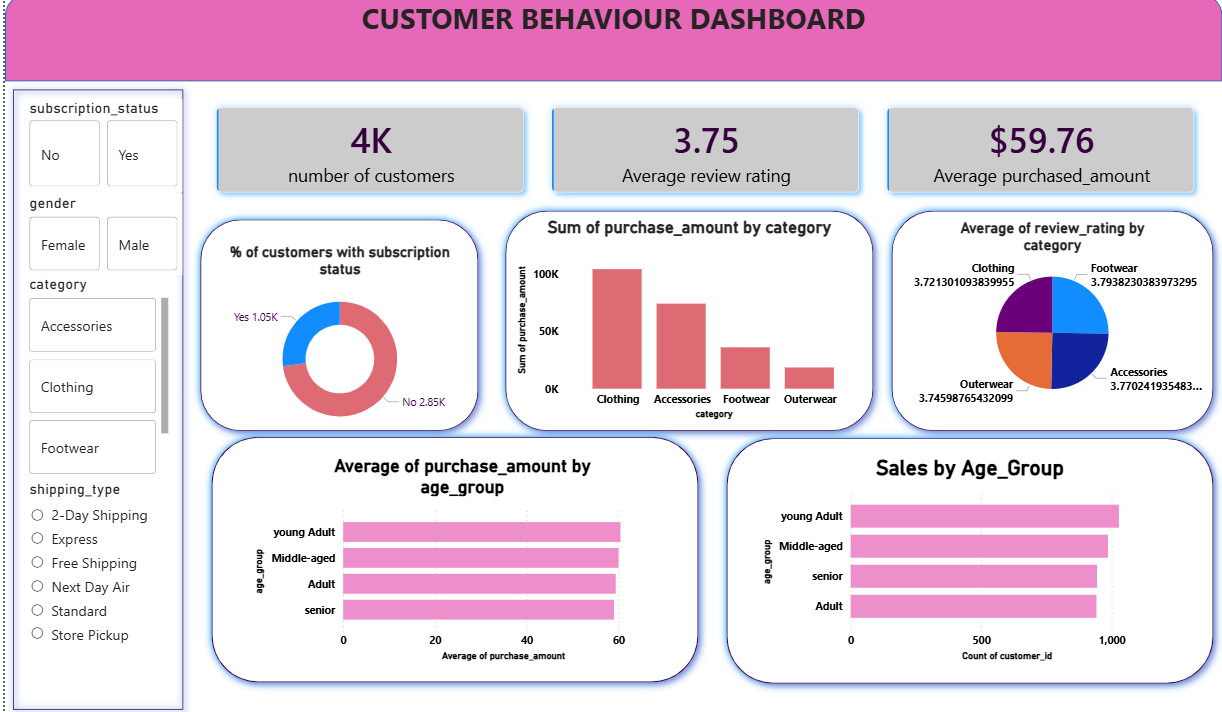

The dashboard page shown, as its layout file describes it:
{"tool":"powerbi","page":{"name":"Page 1","canvas":[1380,820],"ordinal":0},"visuals":[{"type":"cardVisual","fields":{"Data":["customer.number of customers","customer.Average review rating","customer.Average purchased_amount"]},"box":[211.1,99.2,1168.8,155.8],"z":0},{"type":"shape","box":[0,0,1379.9,99.2],"z":1000},{"type":"textbox","box":[0,0,1379.9,99.2],"z":2000},{"type":"shape","box":[211.1,245.1,335.8,260.7],"z":3000},{"type":"donutChart","title":"% of customers with subscription status","fields":{"Category":["customer.subscription_status"],"Y":["Count(customer.customer_id)"]},"box":[223.8,281.9,311.7,222.4],"z":4000},{"type":"shape","box":[556.8,235.2,437.8,270.6],"z":5000},{"type":"shape","box":[994.5,235.2,385.4,270.6],"z":6000},{"type":"pieChart","fields":{"Y":["Avg(customer.review_rating)"],"Category":["customer.category"]},"box":[1017.2,255,340,216.8],"z":7000},{"type":"clusteredColumnChart","fields":{"Category":["customer.category"],"Y":["Sum(customer.purchase_amount)"]},"box":[575.2,253.6,400.9,233.8],"z":8000},{"type":"shape","box":[0,99.2,211.1,721.1],"z":9000},{"type":"advancedSlicerVisual","fields":{"Values":["customer.subscription_status"]},"box":[22.7,119,178.5,104.8],"z":10000},{"type":"advancedSlicerVisual","fields":{"Values":["customer.category"]},"box":[22.7,318.8,167.2,232.3],"z":11000},{"type":"listSlicer","fields":{"Values":["customer.shipping_type"]},"box":[22.7,551.1,151.6,252.2],"z":12000},{"type":"shape","box":[223.8,491.6,572.4,298.9],"z":13000},{"type":"clusteredBarChart","fields":{"Y":["Avg(customer.purchase_amount)"],"Category":["customer.age_group"]},"box":[277.7,522.8,481.7,238],"z":14000},{"type":"shape","box":[807.5,493,572.4,298.9],"z":15000},{"type":"clusteredBarChart","title":"Sales by  Age_Group","fields":{"Category":["customer.age_group"],"Y":["CountNonNull(customer.customer_id)"]},"box":[852.9,522.8,481.7,238],"z":16000},{"type":"advancedSlicerVisual","fields":{"Values":["customer.gender"]},"box":[22.7,226.7,178.5,92.1],"z":17000}]}

Visuals, with their boxes in screenshot pixels (x1, y1, x2, y2), scaled from the page's 1380x820 canvas onto the 1222x712 screenshot:
cardVisual - customer.number of customers x customer.Average review rating: x1=187, y1=86, x2=1221, y2=221
shape: x1=0, y1=0, x2=1221, y2=86
textbox: x1=0, y1=0, x2=1221, y2=86
shape: x1=187, y1=213, x2=484, y2=439
"% of customers with subscription status" donutChart: x1=198, y1=245, x2=474, y2=438
shape: x1=493, y1=204, x2=881, y2=439
shape: x1=881, y1=204, x2=1221, y2=439
pieChart - Avg(customer.review_rating) x customer.category: x1=901, y1=221, x2=1202, y2=410
clusteredColumnChart - customer.category x Sum(customer.purchase_amount): x1=509, y1=220, x2=864, y2=423
shape: x1=0, y1=86, x2=187, y2=711
advancedSlicerVisual - customer.subscription_status: x1=20, y1=103, x2=178, y2=194
advancedSlicerVisual - customer.category: x1=20, y1=277, x2=168, y2=479
listSlicer - customer.shipping_type: x1=20, y1=479, x2=154, y2=697
shape: x1=198, y1=427, x2=705, y2=686
clusteredBarChart - Avg(customer.purchase_amount) x customer.age_group: x1=246, y1=454, x2=672, y2=661
shape: x1=715, y1=428, x2=1221, y2=688
"Sales by  Age_Group" clusteredBarChart: x1=755, y1=454, x2=1182, y2=661
advancedSlicerVisual - customer.gender: x1=20, y1=197, x2=178, y2=277
